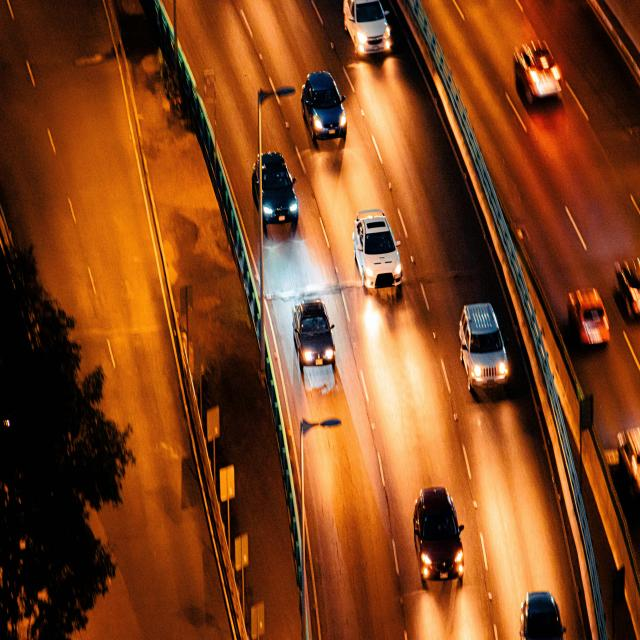car: (413, 486, 465, 587), (458, 301, 508, 394), (353, 209, 403, 291), (251, 152, 299, 232), (301, 71, 347, 142), (292, 299, 336, 373), (515, 40, 561, 104), (343, 0, 391, 59), (567, 286, 610, 348), (519, 591, 565, 640)
